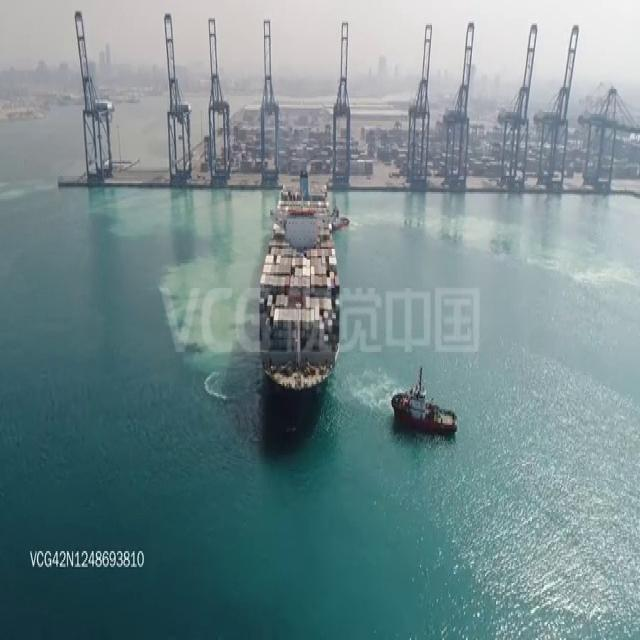cargoship: (260, 171, 339, 386)
houseboat: (391, 374, 452, 437), (328, 192, 352, 232)
